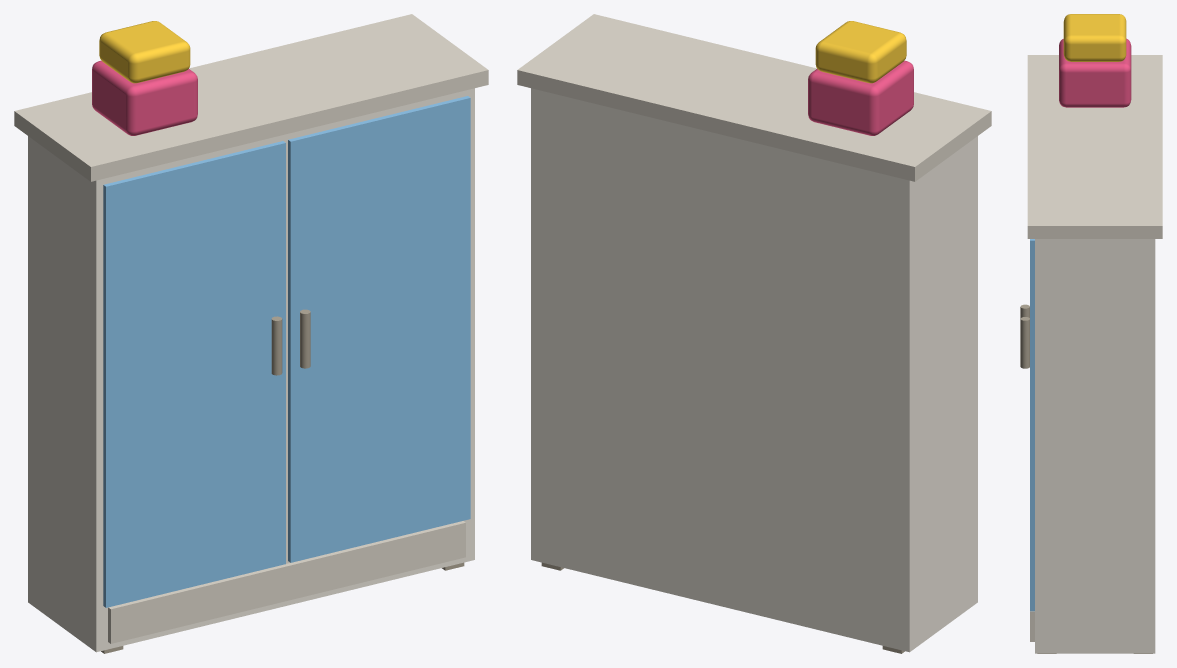
File: shelf-wardrobe.glb
3 renders of one model, left to right at view 1: azimuth 30°, elevation 25°; view 2: azimuth 150°, elevation 25°; view 3: azimuth 270°, elevation 25°, orthographic. The views are drawn at different scales.
Bounding box in the file's own units: 1.68 × 2.32 × 0.59.
